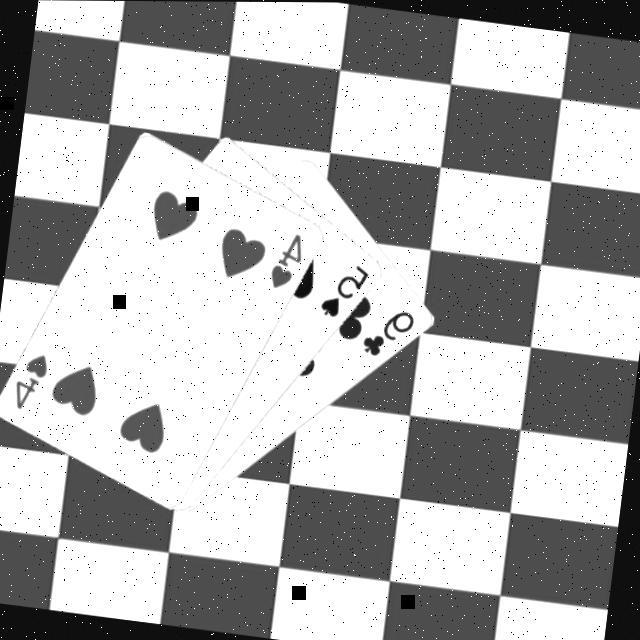4H: (264, 225, 307, 292), (8, 346, 50, 413)
5S: (314, 256, 371, 323)
9C: (356, 300, 416, 362)
